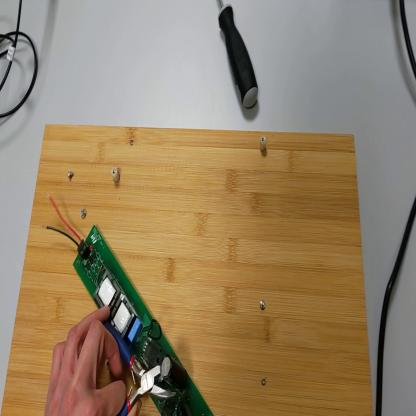hand: (46, 304, 128, 414)
high voltage board: (42, 195, 212, 416)
pliers: (102, 323, 173, 415)
screwdriver-: (218, 3, 260, 118)
working area: (1, 121, 375, 415)
